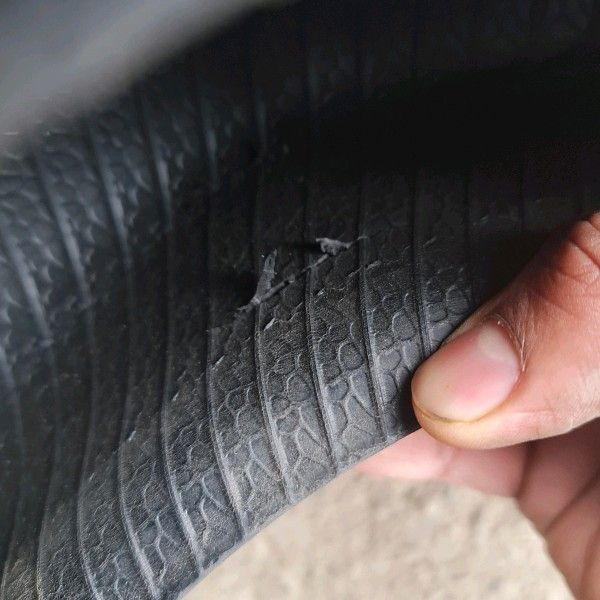CBU: (227, 229, 372, 325)
